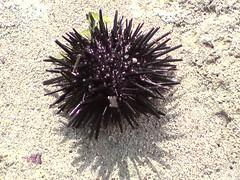urchin: (51, 13, 173, 133)
